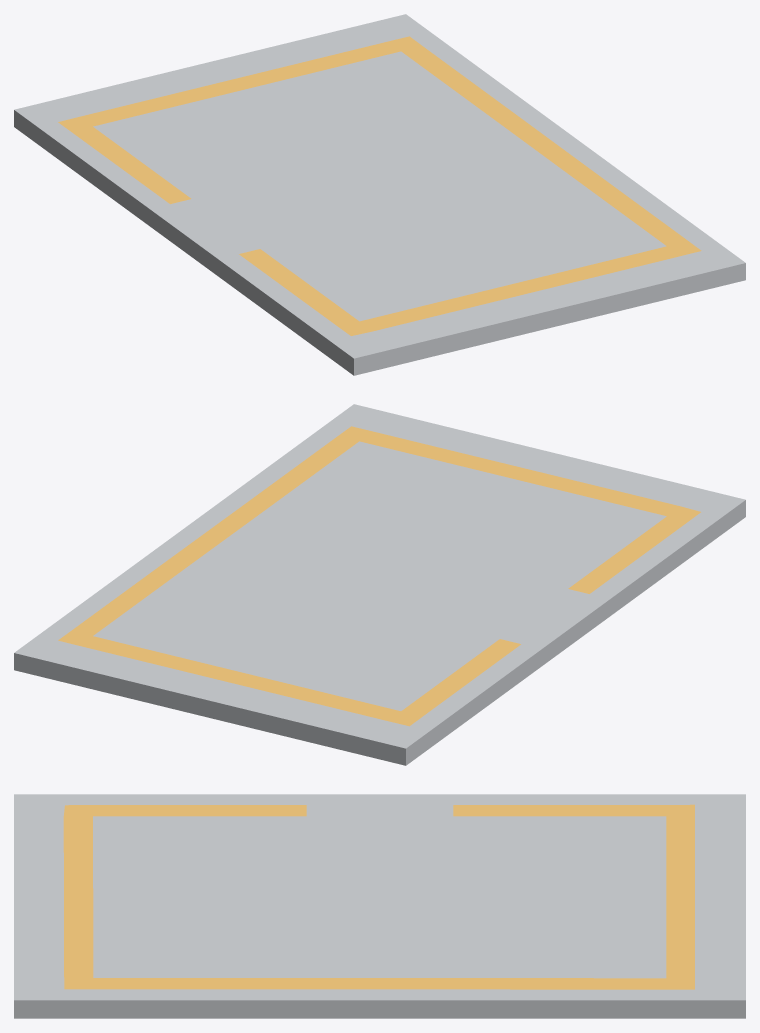
The model's file is Jovan_PlatformHangar.glb.
3 renders of one model, top to bottom at view 1: azimuth 30°, elevation 25°; view 2: azimuth 150°, elevation 25°; view 3: azimuth 270°, elevation 25°, orthographic. The views are drawn at different scales.
Parts seen in each view (by area): view 1: PlatformHangar; view 2: PlatformHangar; view 3: PlatformHangar.
Part boxes in pixels (<box>): PlatformHangar: <box>14,14,745,375</box>; PlatformHangar: <box>14,404,745,765</box>; PlatformHangar: <box>14,794,745,1018</box>.
Bounding box in the file's own units: 2 × 0.0842 × 3.
